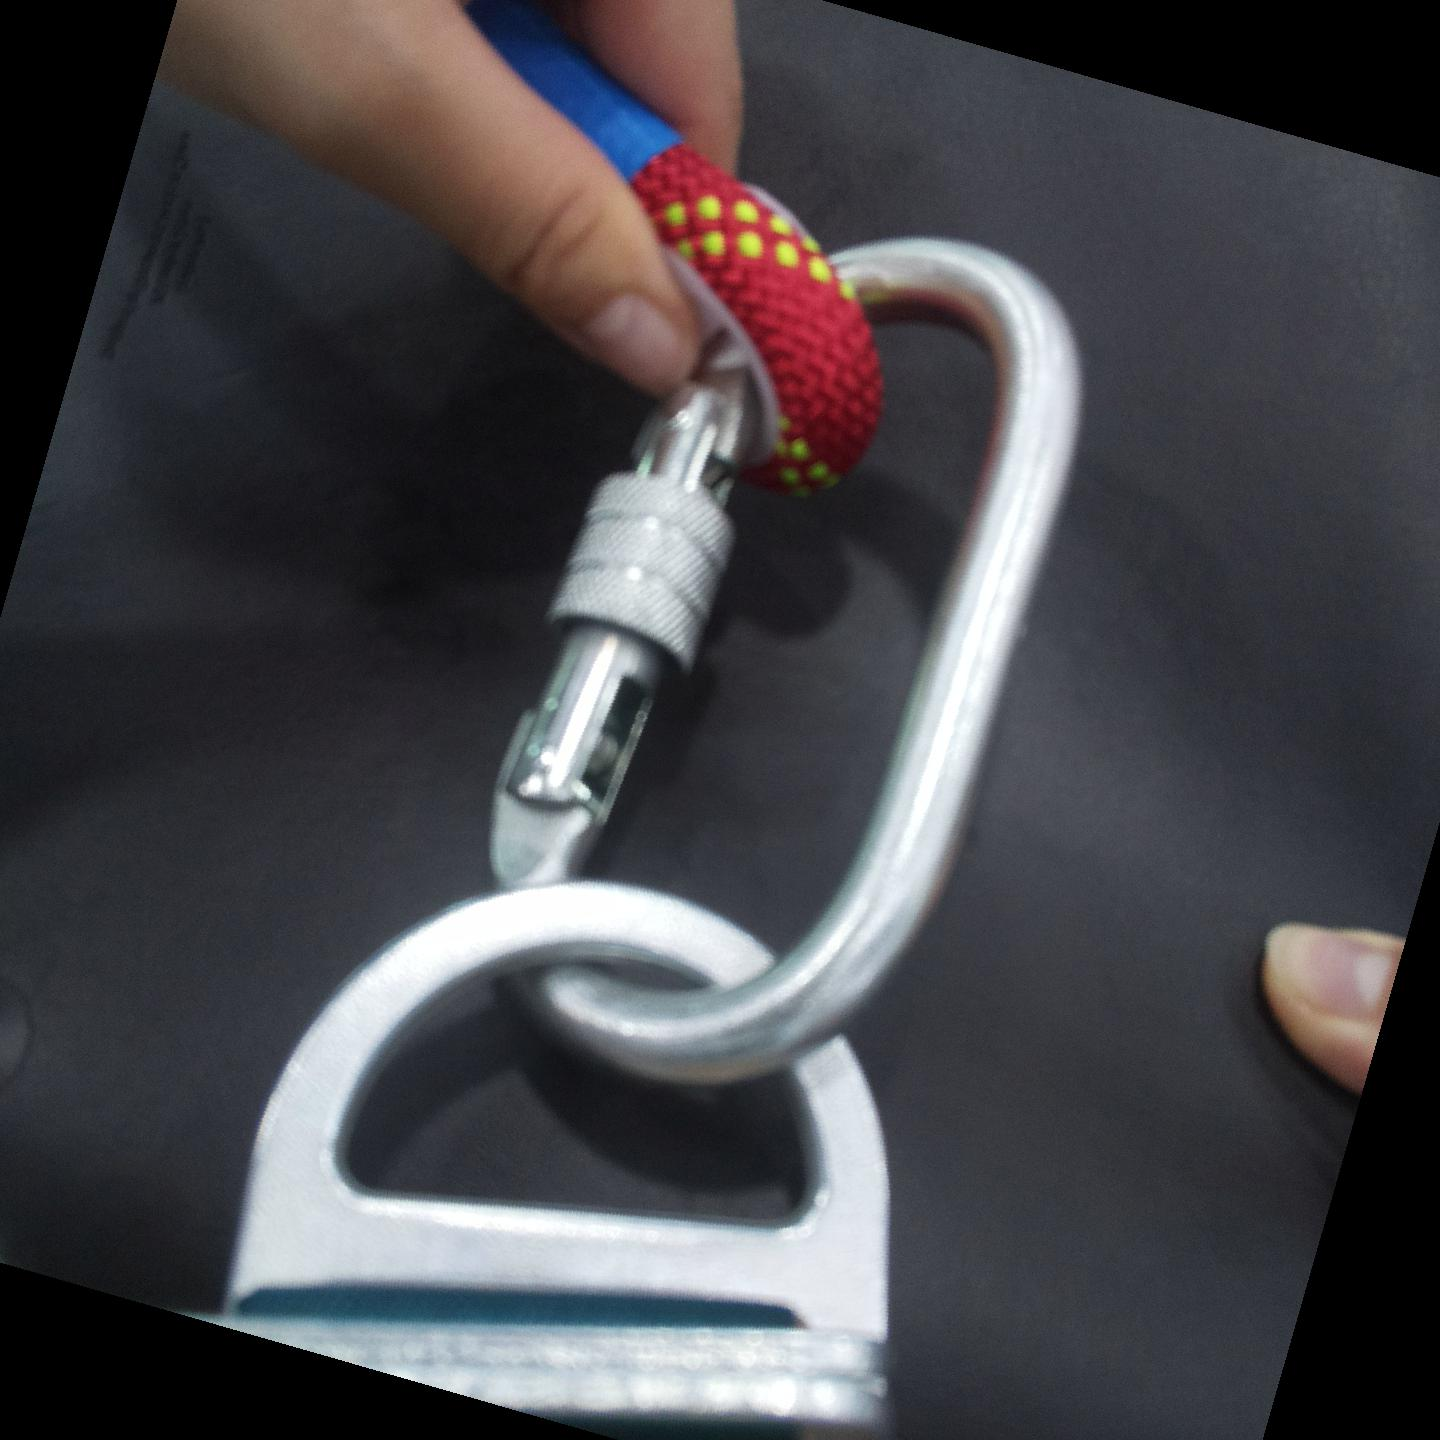SUCCESS: (255, 527, 1011, 1327)
